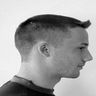ear: (34, 39, 57, 61)
